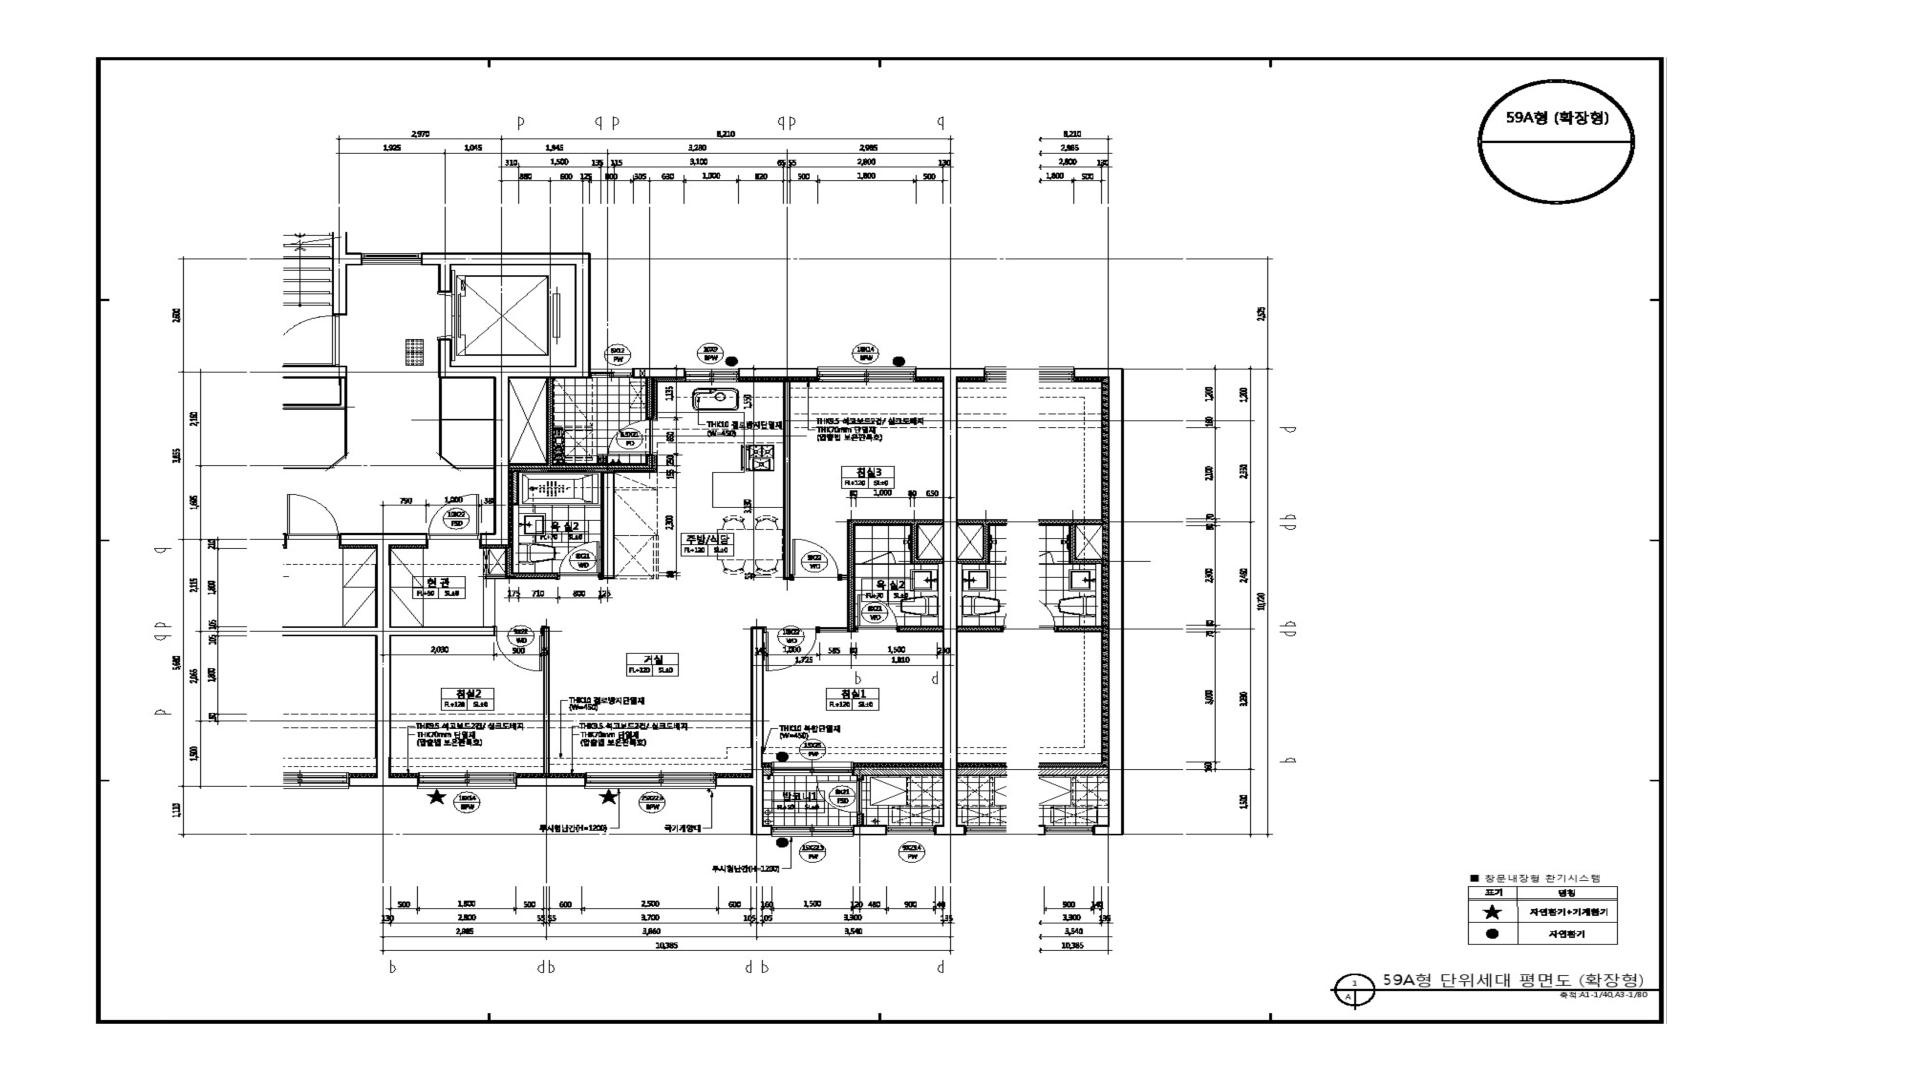door: (764, 626, 820, 673), (426, 495, 480, 539), (495, 626, 543, 671), (790, 538, 841, 580), (556, 541, 600, 579), (607, 419, 654, 454), (855, 595, 897, 633), (816, 781, 864, 814)
wall: (421, 252, 592, 546), (376, 533, 496, 787), (916, 368, 957, 835), (820, 520, 943, 632), (509, 378, 653, 469), (716, 626, 771, 836), (485, 547, 558, 579), (332, 252, 363, 316), (600, 472, 615, 579), (783, 381, 790, 580), (853, 766, 943, 781), (543, 626, 550, 774), (738, 368, 818, 378), (517, 777, 584, 787), (632, 368, 686, 378), (853, 824, 887, 836), (645, 378, 654, 419), (897, 625, 943, 633), (512, 471, 520, 505), (856, 814, 864, 824), (764, 766, 771, 775)
window: (584, 773, 716, 789), (418, 773, 517, 789), (818, 367, 916, 382), (771, 761, 853, 775), (771, 824, 853, 837), (686, 368, 738, 382), (363, 252, 421, 265), (887, 827, 934, 836), (592, 368, 632, 378)
